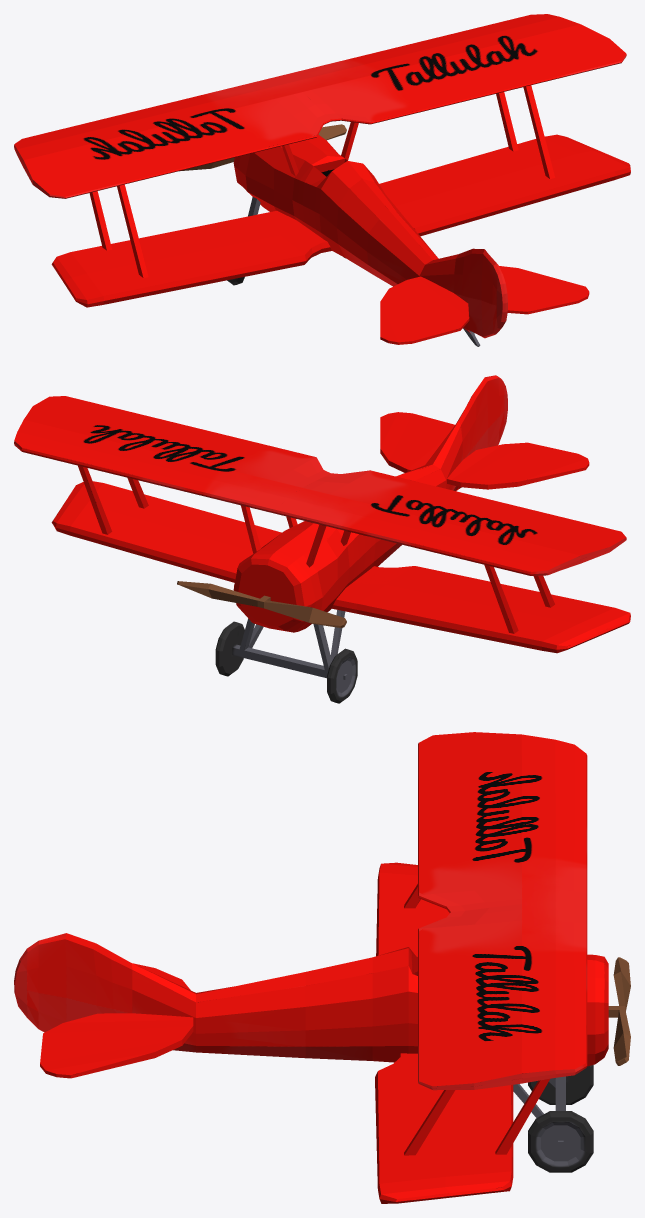
Rendered from Tallulha.fbx.
3 views of the same model, one above another, from view 1: azimuth 30°, elevation 25°; view 2: azimuth 150°, elevation 25°; view 3: azimuth 270°, elevation 25° (orthographic). The views are drawn at different scales.
Visible parts, largest first — view 1: TopWing, BottomWing, Tallulha, BackWing, Pillars, Rotor; view 2: TopWing, BottomWing, Tallulha, BackWing, Tires, Pillars, Rotor; view 3: TopWing, Tallulha, BottomWing, BackWing, Tires, Pillars, Rotor.
Boxes of the visible parts, x1,y1,x2,y2 form: TopWing: [14, 14, 626, 198]; BottomWing: [51, 134, 630, 307]; Tallulha: [233, 135, 507, 346]; BackWing: [380, 266, 589, 344]; Pillars: [89, 85, 555, 278]; Rotor: [179, 124, 346, 171]; TopWing: [14, 396, 626, 575]; BottomWing: [51, 481, 630, 653]; Tallulha: [233, 375, 507, 632]; BackWing: [380, 412, 589, 489]; Tires: [215, 610, 357, 703]; Pillars: [78, 465, 554, 633]; Rotor: [177, 581, 346, 627]; TopWing: [418, 732, 587, 1090]; Tallulha: [14, 933, 608, 1066]; BottomWing: [375, 862, 513, 1203]; BackWing: [40, 963, 193, 1078]; Tires: [513, 1065, 593, 1172]; Pillars: [404, 884, 549, 1155]; Rotor: [608, 957, 630, 1065].
Bounding box in the file's own units: 811 × 252 × 602.
Materials: 1 (1 with a texture image).
